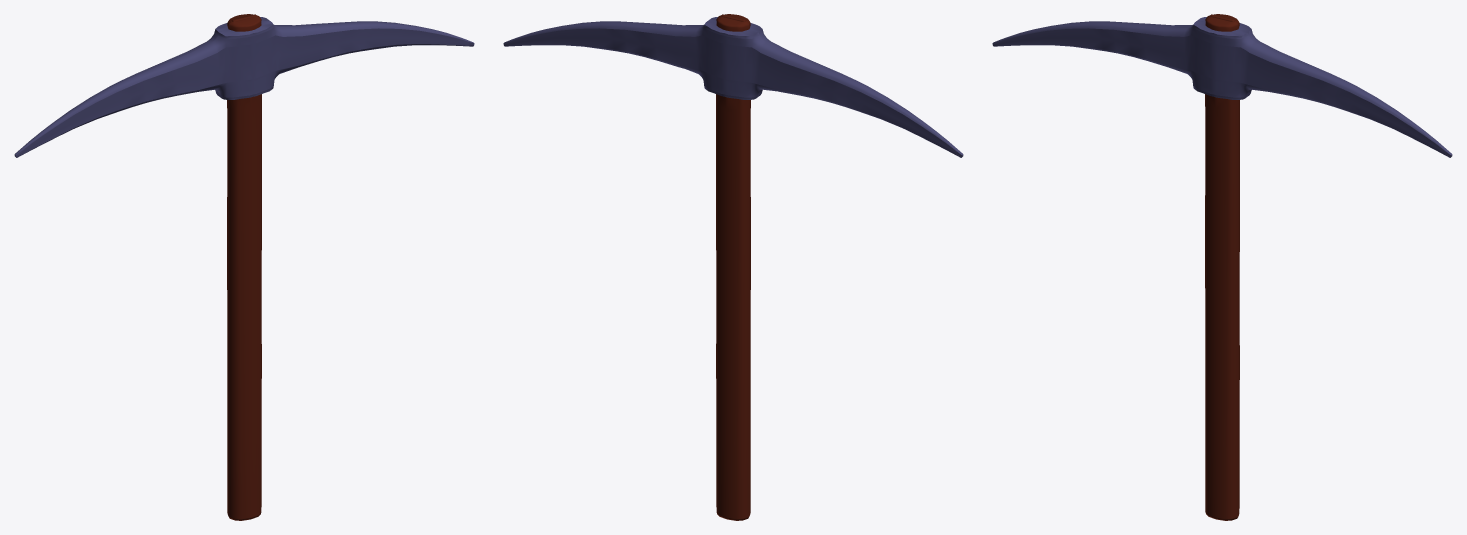
Rendered from Iron_Pickaxe_1.fbx.
3 views of the same model, side by side, from view 1: azimuth 30°, elevation 25°; view 2: azimuth 150°, elevation 25°; view 3: azimuth 330°, elevation 25° (orthographic).
Visible parts, largest first — view 1: Pickaxe.001; view 2: Pickaxe.001; view 3: Pickaxe.001.
Boxes of the visible parts, x1=… form: Pickaxe.001: x1=14, y1=14, x2=474, y2=520; Pickaxe.001: x1=503, y1=14, x2=963, y2=520; Pickaxe.001: x1=992, y1=14, x2=1452, y2=520.
Bounding box in the file's own units: 77.14 × 80.1 × 5.31.
